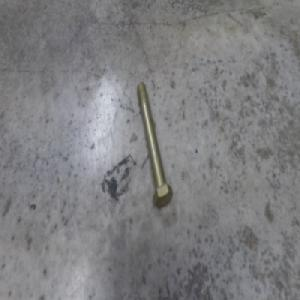Bolt: (137, 81, 173, 206)
